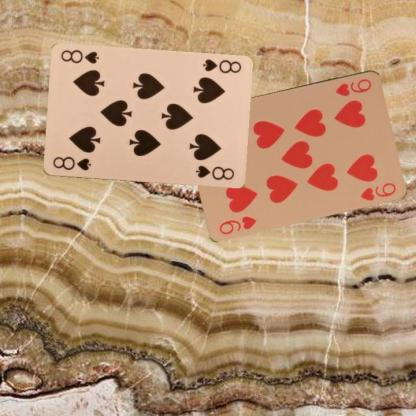8s: (50, 154, 92, 172), (200, 57, 242, 75)
9h: (217, 212, 258, 235), (333, 76, 373, 97)
